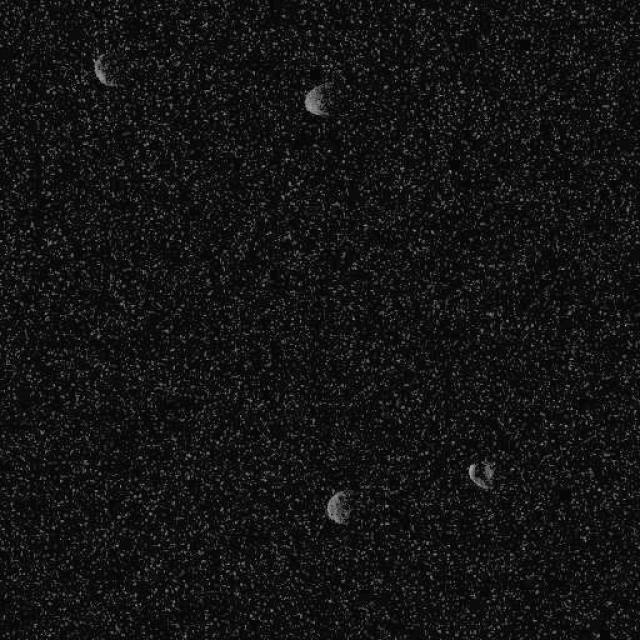D2: (302, 80, 336, 118), (91, 52, 119, 88), (325, 489, 351, 525), (466, 459, 495, 491)
